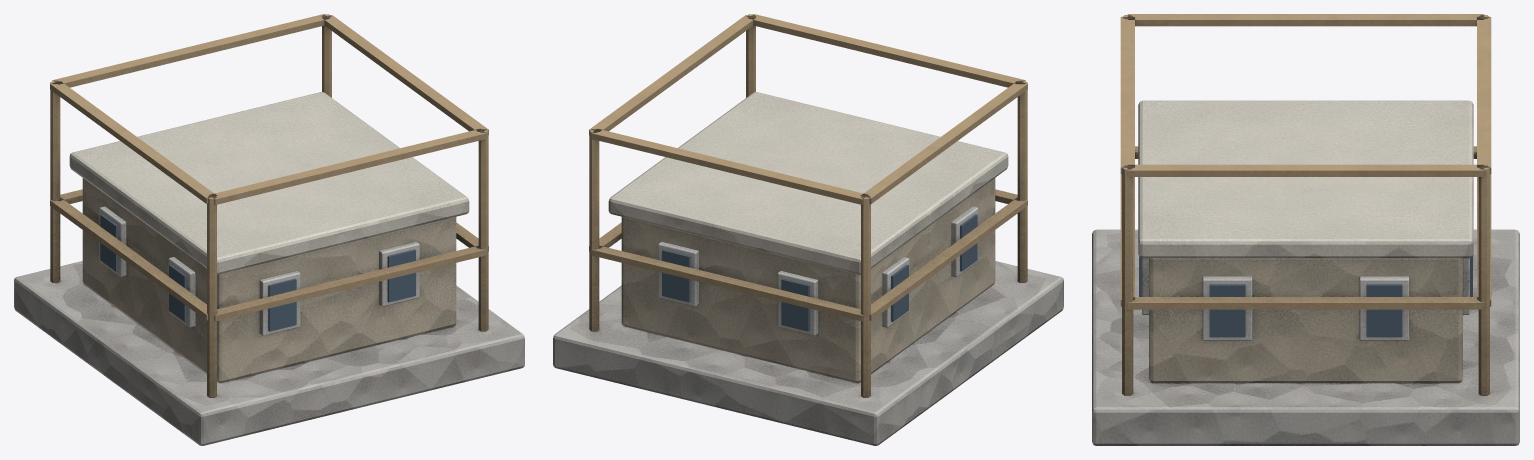
The model's file is jahr1.glb.
The picture shows the model from 3 angles, left to right: view 1: azimuth 30°, elevation 25°; view 2: azimuth 150°, elevation 25°; view 3: azimuth 270°, elevation 25°; orthographic projection. The views are drawn at different scales.
Parts seen in each view (by area): view 1: jahr1, jahr1_details; view 2: jahr1, jahr1_details; view 3: jahr1, jahr1_details.
Part boxes in pixels (<box>): jahr1: <box>14,14,524,445</box>; jahr1_details: <box>100,214,415,331</box>; jahr1: <box>553,14,1063,445</box>; jahr1_details: <box>662,214,977,331</box>; jahr1: <box>1092,14,1519,445</box>; jahr1_details: <box>1139,256,1472,337</box>.
Size of the model in its own units: 0.6 by 0.41 by 0.6.
Materials: 2 (1 with a texture image).
